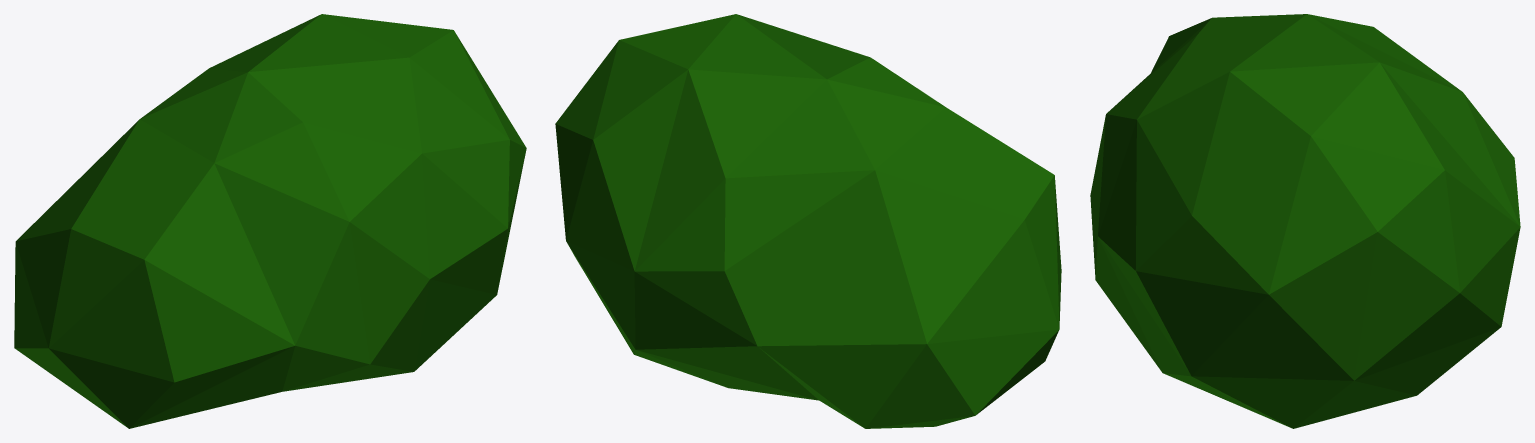
File: Bush_2.glb
3 views of the same model, side by side, from view 1: azimuth 30°, elevation 25°; view 2: azimuth 150°, elevation 25°; view 3: azimuth 270°, elevation 25° (orthographic). The views are drawn at different scales.
Parts seen in each view (by area): view 1: Bush_02; view 2: Bush_02; view 3: Bush_02.
Boxes of the visible parts, <box> form: Bush_02: <box>14,14,526,428</box>; Bush_02: <box>555,14,1061,428</box>; Bush_02: <box>1090,14,1520,428</box>.
Size of the model in its own units: 0.9641 by 0.6232 by 0.6813.
